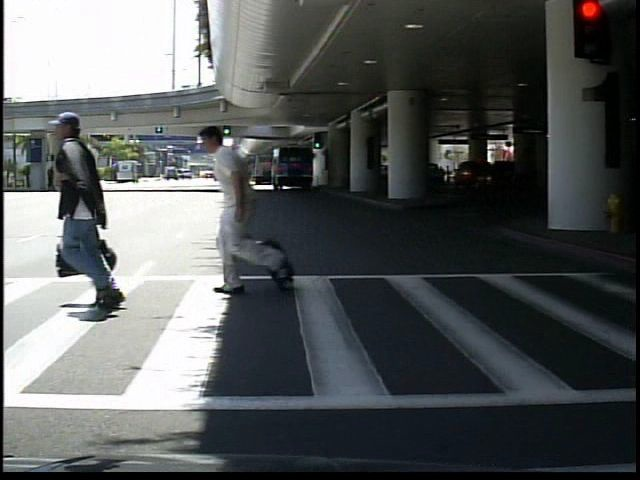person: (53, 111, 141, 315), (208, 117, 283, 296)
